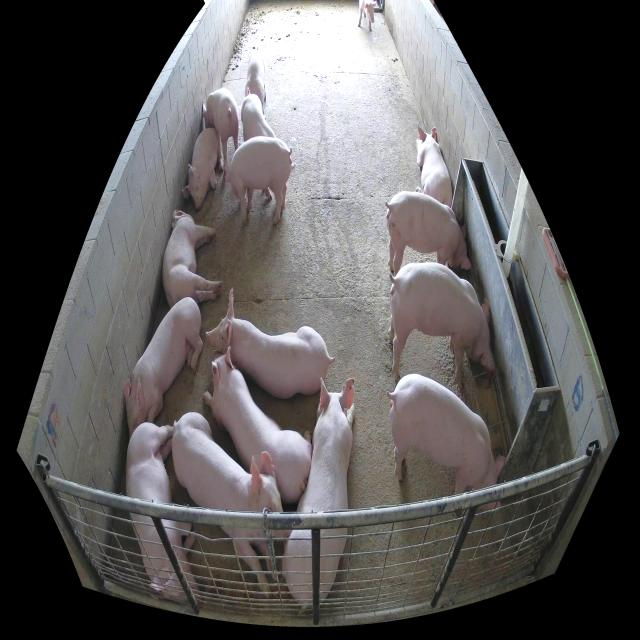pig: (172, 412, 286, 602), (204, 344, 312, 505), (282, 377, 356, 609), (389, 373, 503, 510), (126, 423, 204, 605), (206, 288, 331, 398), (388, 263, 495, 388), (125, 299, 203, 438), (387, 191, 475, 278), (224, 137, 292, 225), (162, 211, 224, 307), (182, 127, 223, 212), (416, 124, 453, 208), (203, 87, 239, 167), (241, 94, 276, 143), (245, 49, 266, 115), (358, 0, 377, 31)
